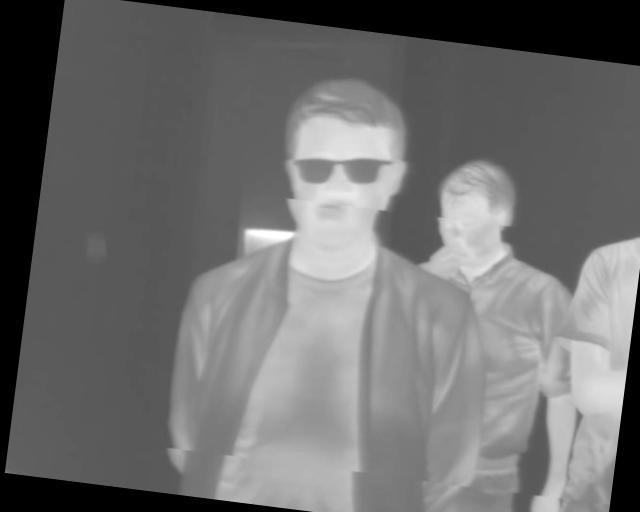face: (274, 69, 417, 247), (428, 154, 523, 274)
